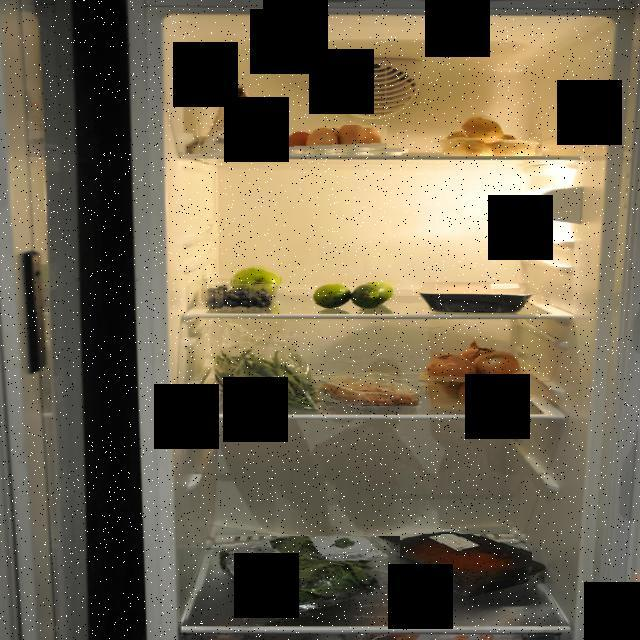apple: (230, 262, 280, 296)
beef: (392, 534, 532, 584)
blueberries: (200, 284, 284, 310)
eggs: (283, 125, 387, 156)
flour: (194, 85, 262, 156)
green_beans: (210, 347, 324, 414)
lime: (313, 280, 398, 312)
onion: (424, 340, 526, 410)
potato: (433, 113, 542, 156)
shrimp: (319, 371, 419, 406)
spinach: (214, 536, 400, 625)
